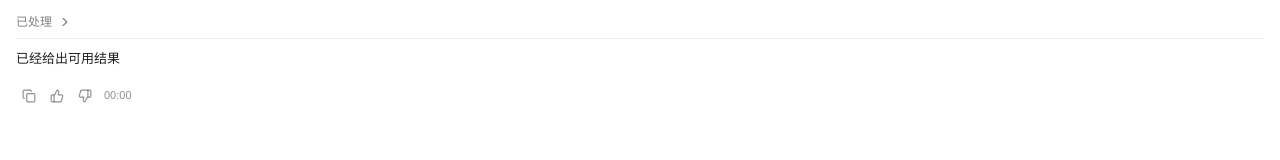
it: ConversationView › keeps status errors inside a completed turn when the assistant did not fail
Expected: the text "已经给出可用结果" is shown, x1=16 y1=51 x2=120 y2=66
Expected: the text "某个内部状态需要注意" is not shown
Click the button with aria-label "展开回复 已处理": [44, 22] box x1=16 y1=12 x2=72 y2=32
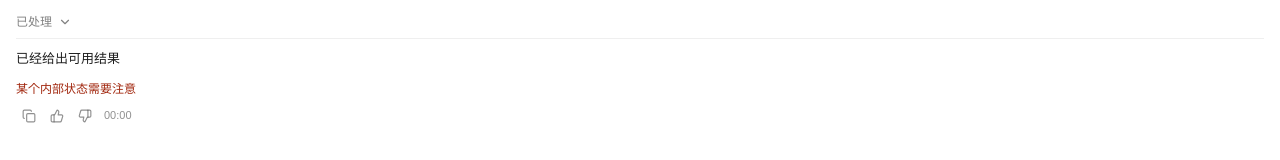
Result: the text "某个内部状态需要注意" is shown at x1=16 y1=79 x2=136 y2=99
